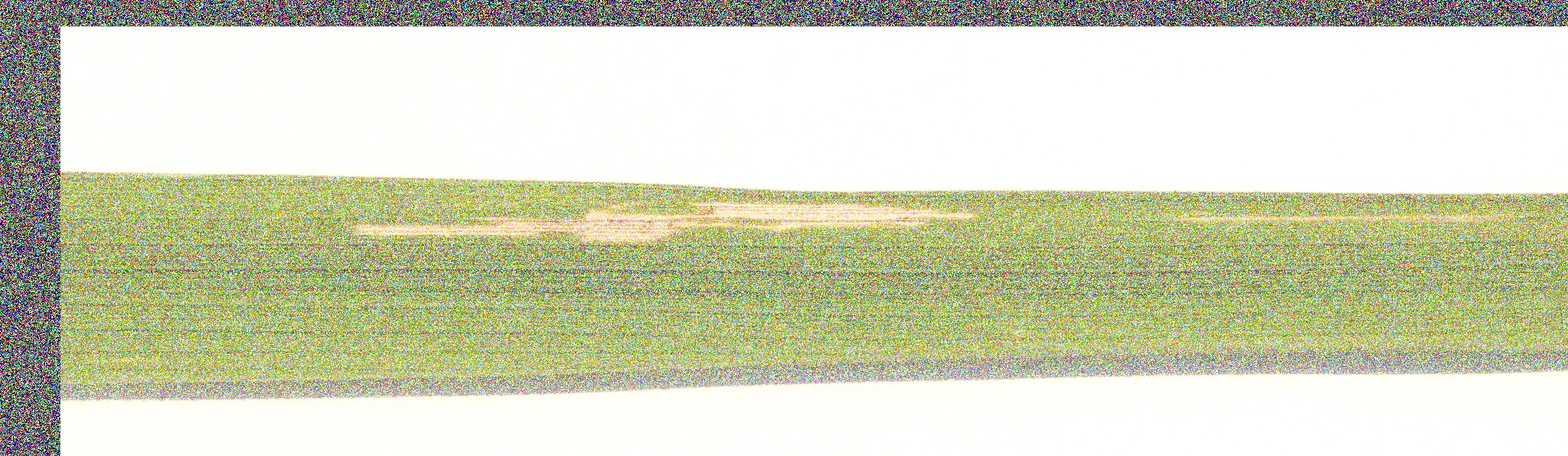Leaf_Blast: (293, 171, 1538, 290)
